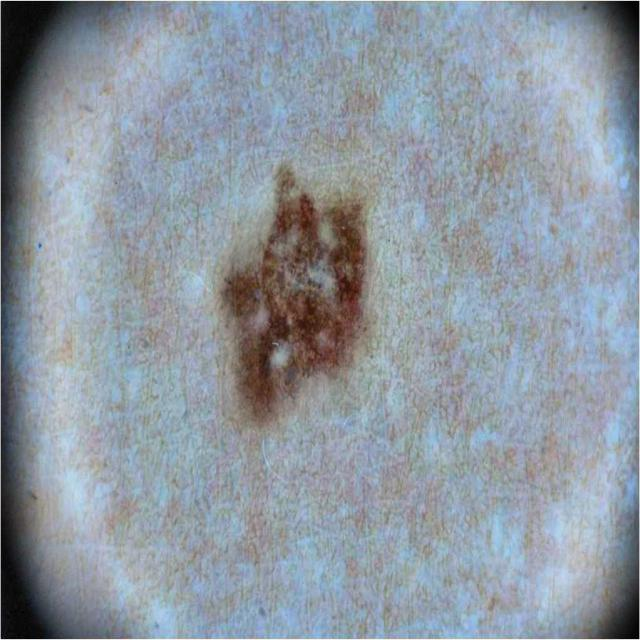Melanocytic-Nevi-NV-: (225, 168, 365, 413)
